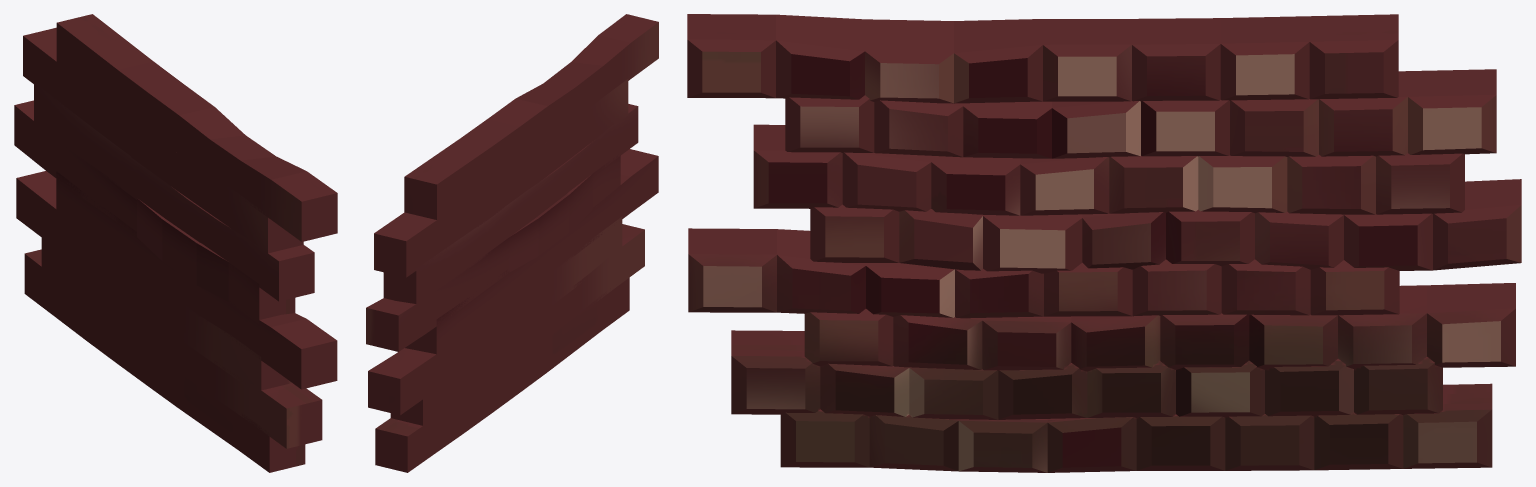
Rendered from brickwall(1).fbx.
The picture shows the model from 3 angles, left to right: view 1: azimuth 30°, elevation 25°; view 2: azimuth 150°, elevation 25°; view 3: azimuth 270°, elevation 25°; orthographic projection. The views are drawn at different scales.
Parts seen in each view (by area): view 1: Cube; view 2: Cube; view 3: Cube.
Boxes of the visible parts, box(x1,y1,x2,y2) form: Cube: box(14, 14, 337, 472); Cube: box(366, 14, 658, 472); Cube: box(687, 14, 1521, 472).
Size of the model in its own units: 186 by 1170 by 2040.
